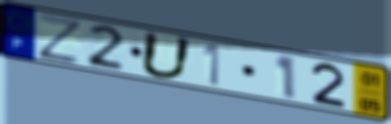1: (273, 54, 298, 102), (201, 44, 222, 89)
2: (85, 24, 128, 74), (309, 62, 348, 110)
U: (138, 29, 196, 80)
Z: (37, 12, 85, 67)
